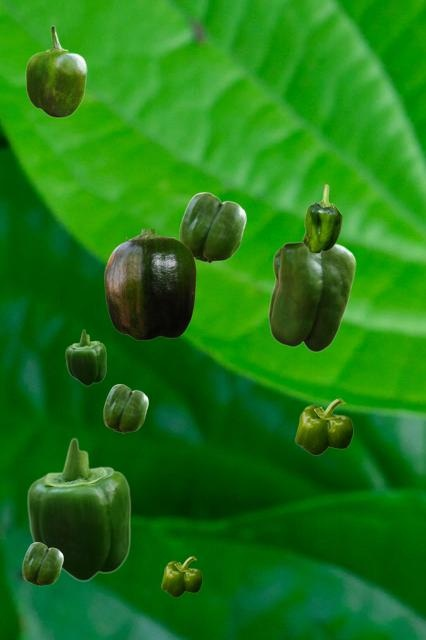bell_pepper: (26, 437, 130, 581), (104, 229, 195, 339), (268, 241, 355, 351), (25, 25, 86, 117), (179, 192, 245, 262), (295, 398, 352, 454), (302, 184, 341, 252), (65, 329, 105, 385), (103, 384, 147, 432), (22, 542, 62, 585), (161, 556, 201, 596)
